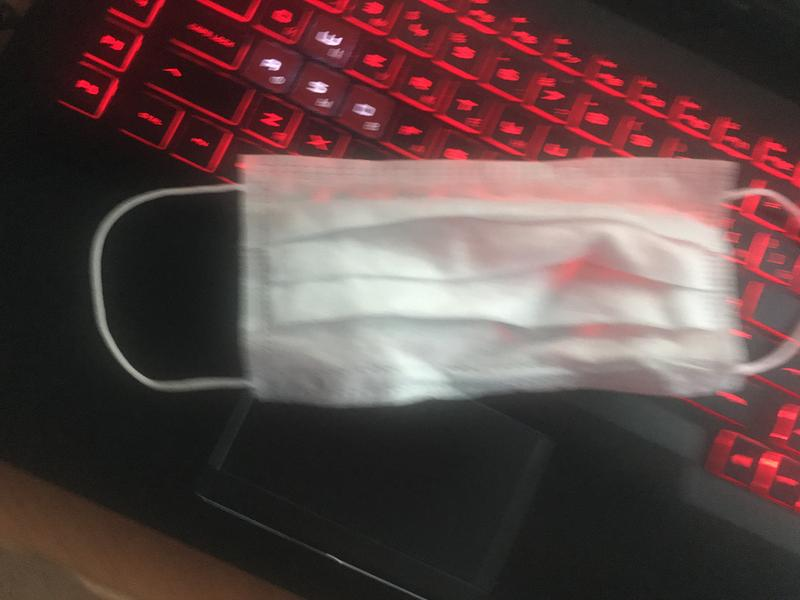medical_mask: (90, 153, 800, 402)
